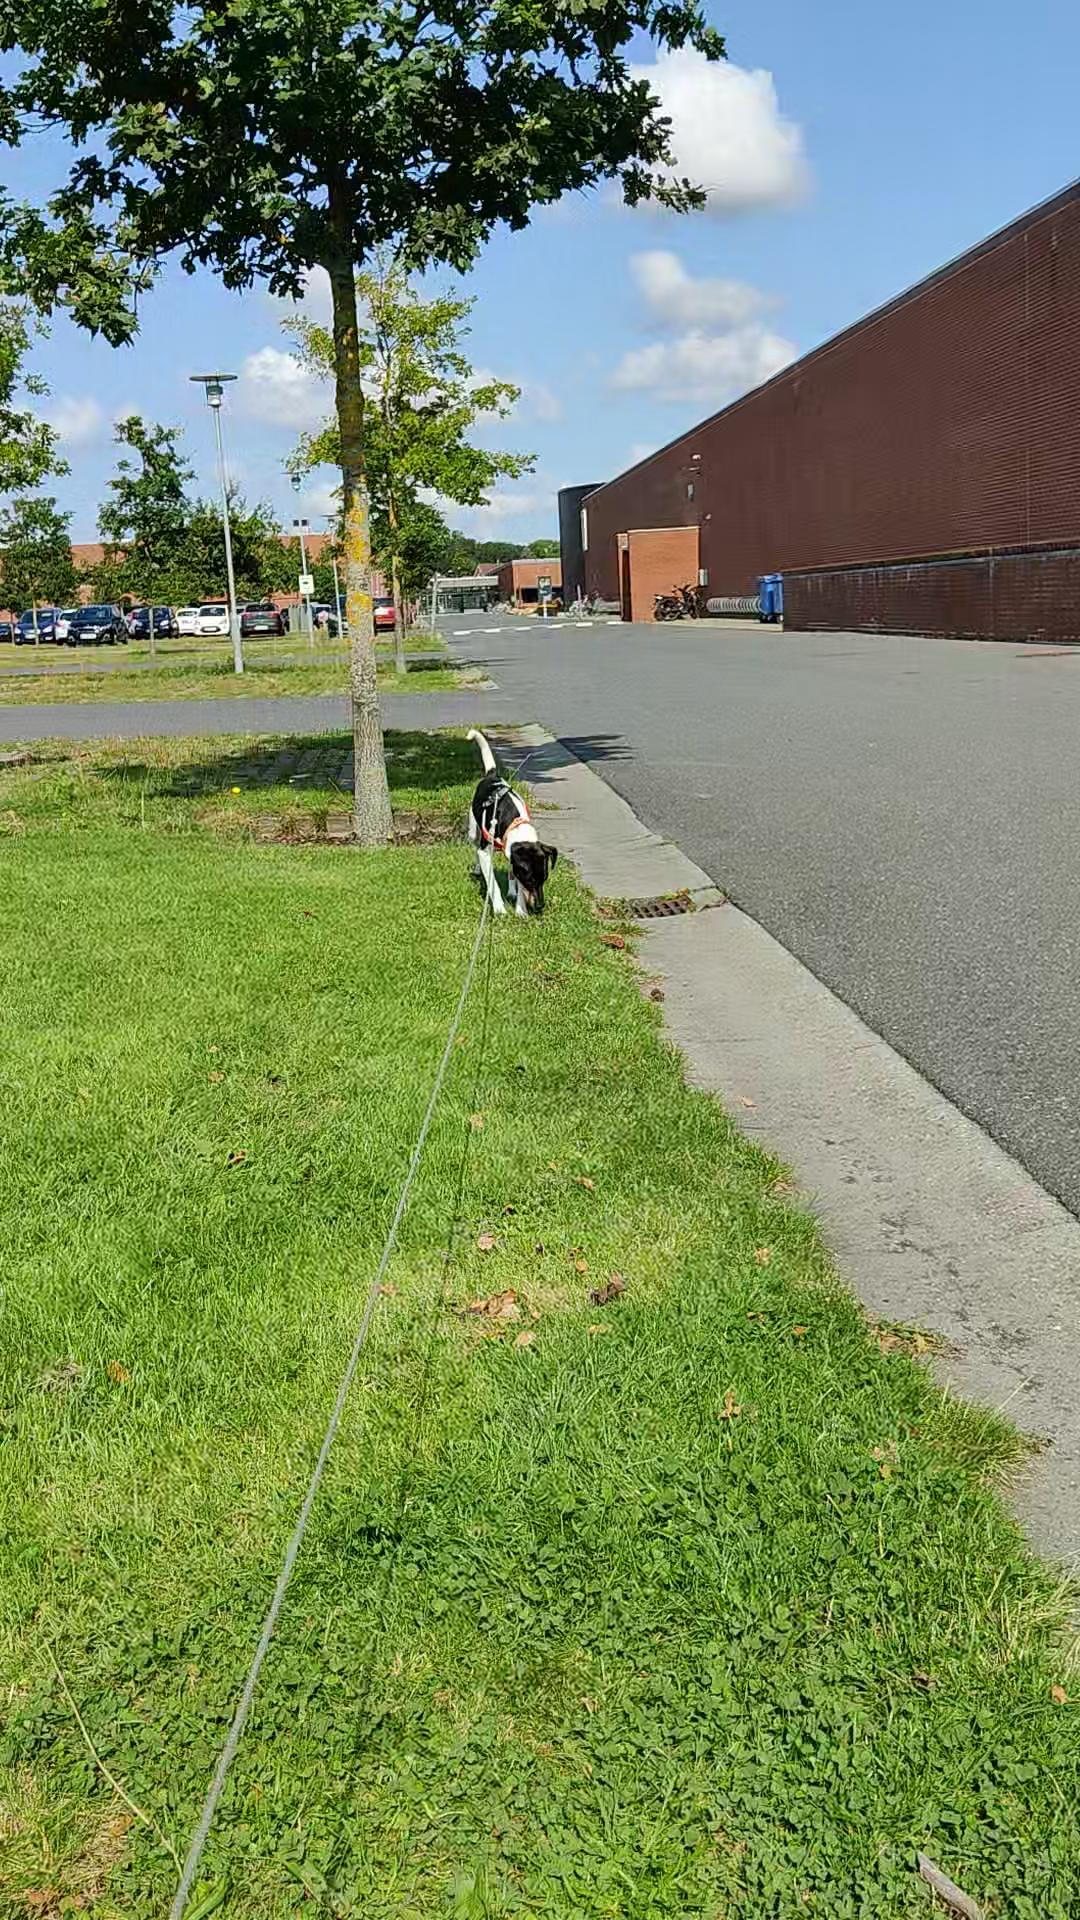Dog: (463, 723, 560, 919)
